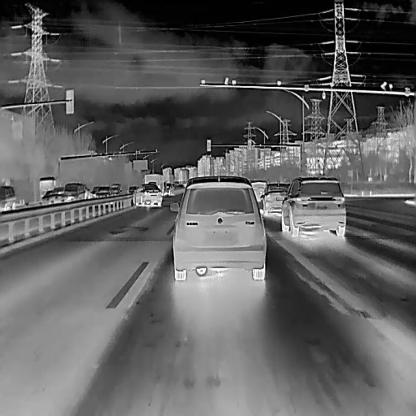bus: (37, 176, 56, 199)
car: (169, 174, 267, 280), (281, 176, 346, 238), (259, 182, 288, 214), (132, 182, 162, 206), (61, 182, 84, 202), (0, 185, 16, 212), (250, 178, 267, 202), (51, 184, 63, 202), (39, 188, 51, 204), (94, 185, 109, 197), (110, 182, 121, 196), (87, 186, 98, 198), (127, 184, 138, 192)
truck: (143, 172, 163, 194)
